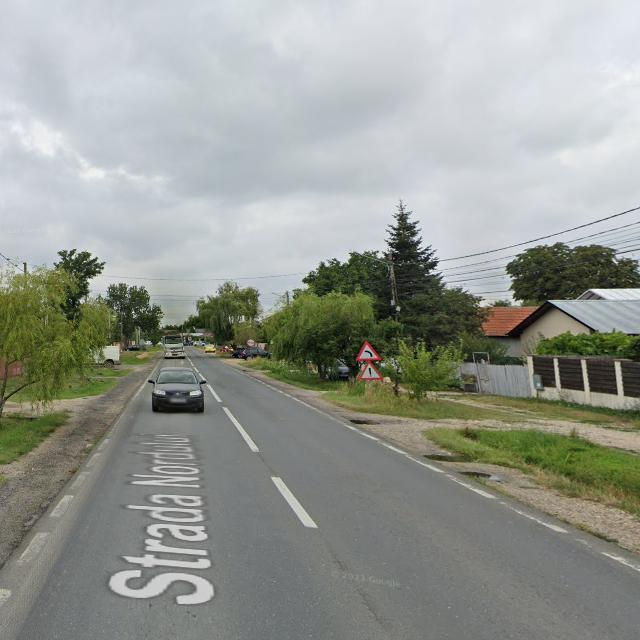warn_other_dangers: (358, 362, 383, 379)
